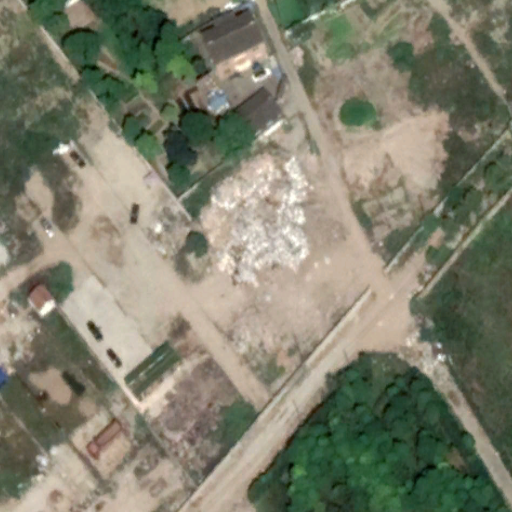msw: (205, 153, 309, 279)
